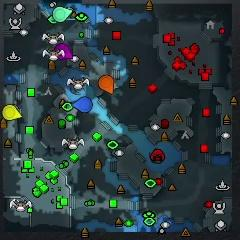p1: (71, 96, 93, 113)
p2: (52, 7, 72, 23)
p3: (54, 44, 73, 59)
p4: (2, 104, 22, 120)
p5: (99, 75, 114, 95)
